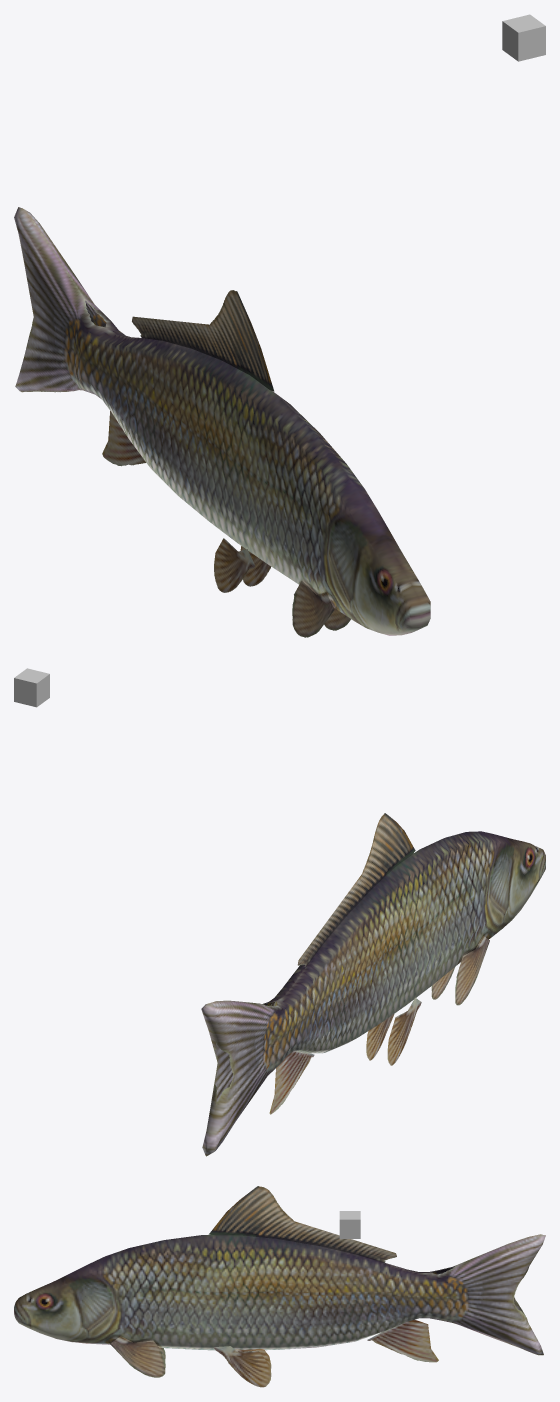
File: mis test.obj
The picture shows the model from 3 angles, top to bottom: view 1: azimuth 30°, elevation 25°; view 2: azimuth 150°, elevation 25°; view 3: azimuth 270°, elevation 25°; orthographic projection. The views are drawn at different scales.
Visible parts, largest first — view 1: fish_Cube, Cube; view 2: fish_Cube, Cube; view 3: fish_Cube, Cube.
Boxes of the visible parts, <box> form: fish_Cube: <box>14,207,430,637</box>; Cube: <box>502,14,545,61</box>; fish_Cube: <box>201,813,545,1156</box>; Cube: <box>14,668,49,707</box>; fish_Cube: <box>14,1186,545,1387</box>; Cube: <box>339,1211,360,1238</box>.
Size of the model in its own units: 2.81 by 2.97 by 5.06.
